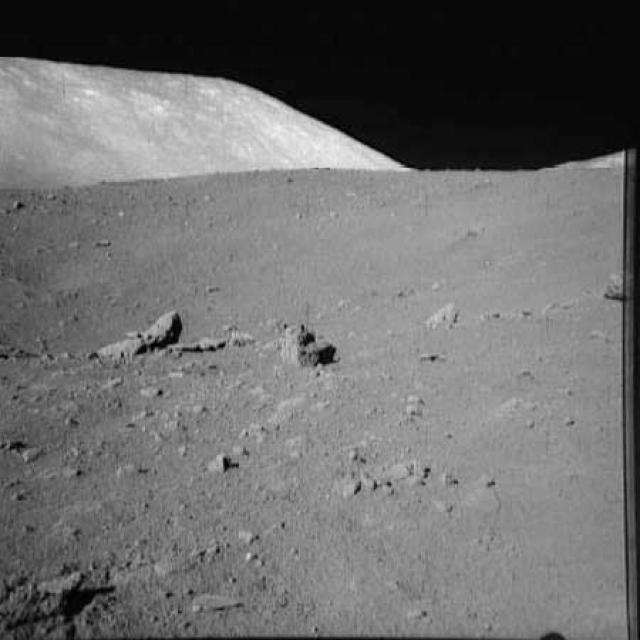crater: (0, 168, 639, 360)
rock: (80, 295, 184, 360), (255, 306, 340, 372), (172, 325, 255, 356), (594, 262, 634, 308), (422, 295, 462, 339), (476, 298, 532, 325), (203, 444, 240, 478)
